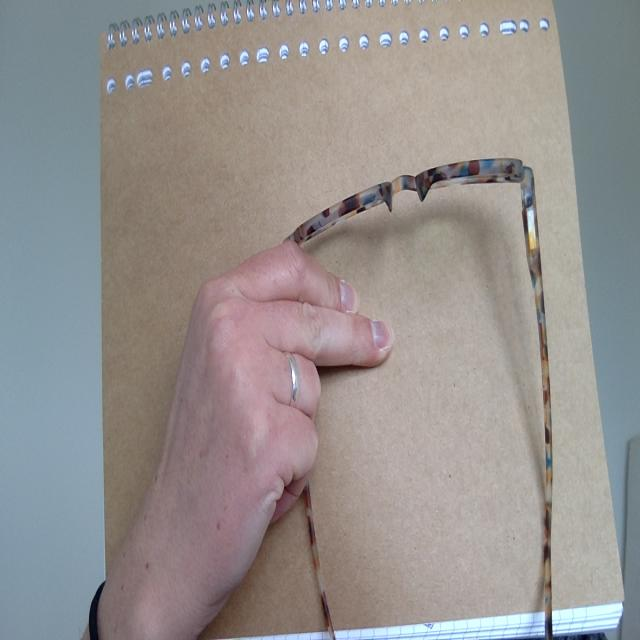glasses: (276, 140, 546, 315)
